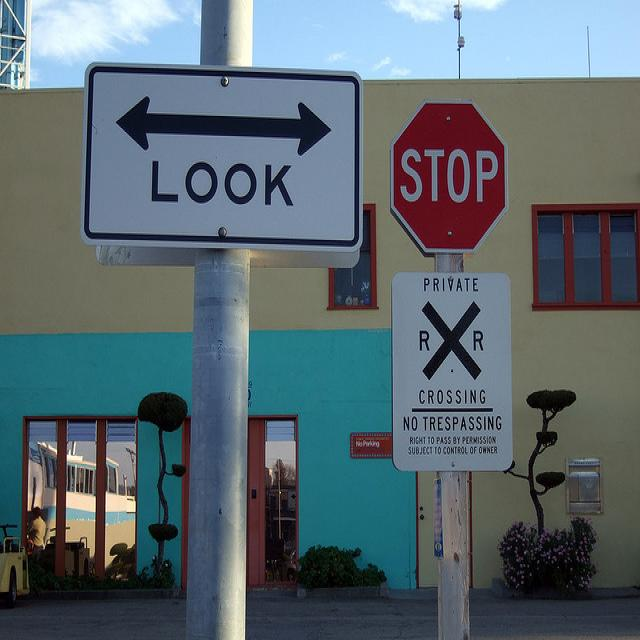Vehicle: (0, 536, 30, 608)
